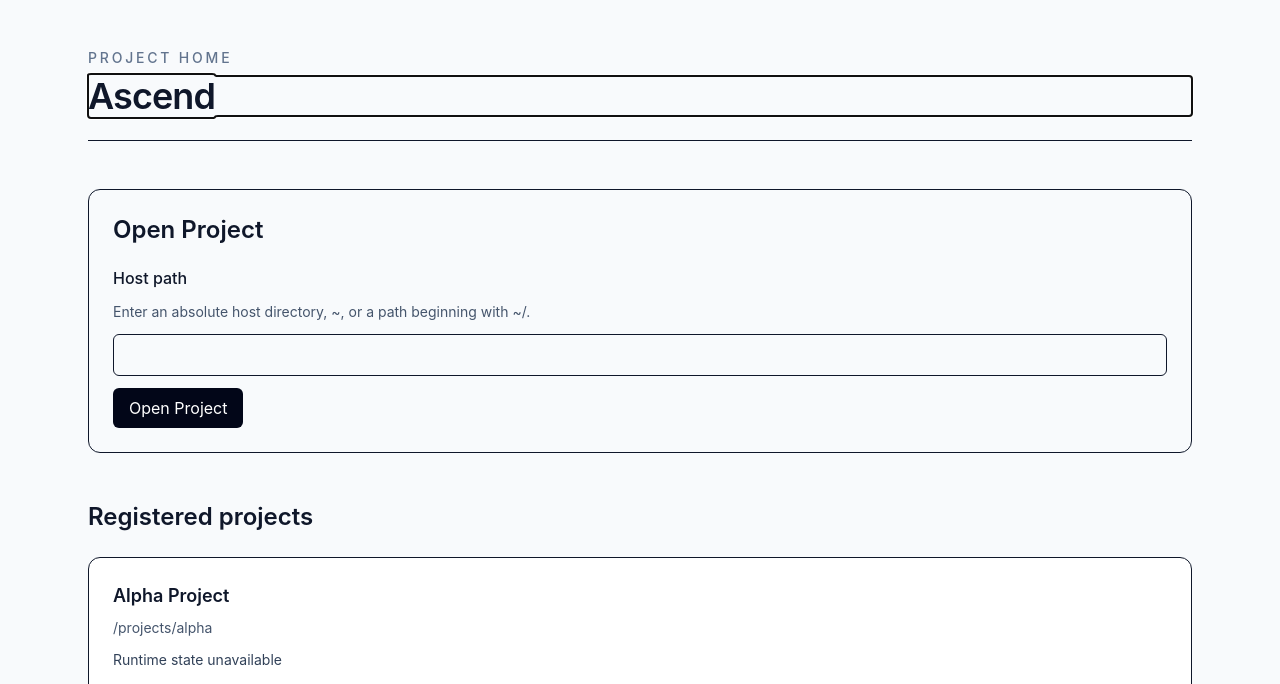
Test case: Project Home open interaction › renders typed unsupported_path_syntax as a preserved associated correction
The width and height of the screenshot is (1280, 684).
Type "/exact host path" into the field labelled "Host path" at (640, 355), box [113,334,1167,376]
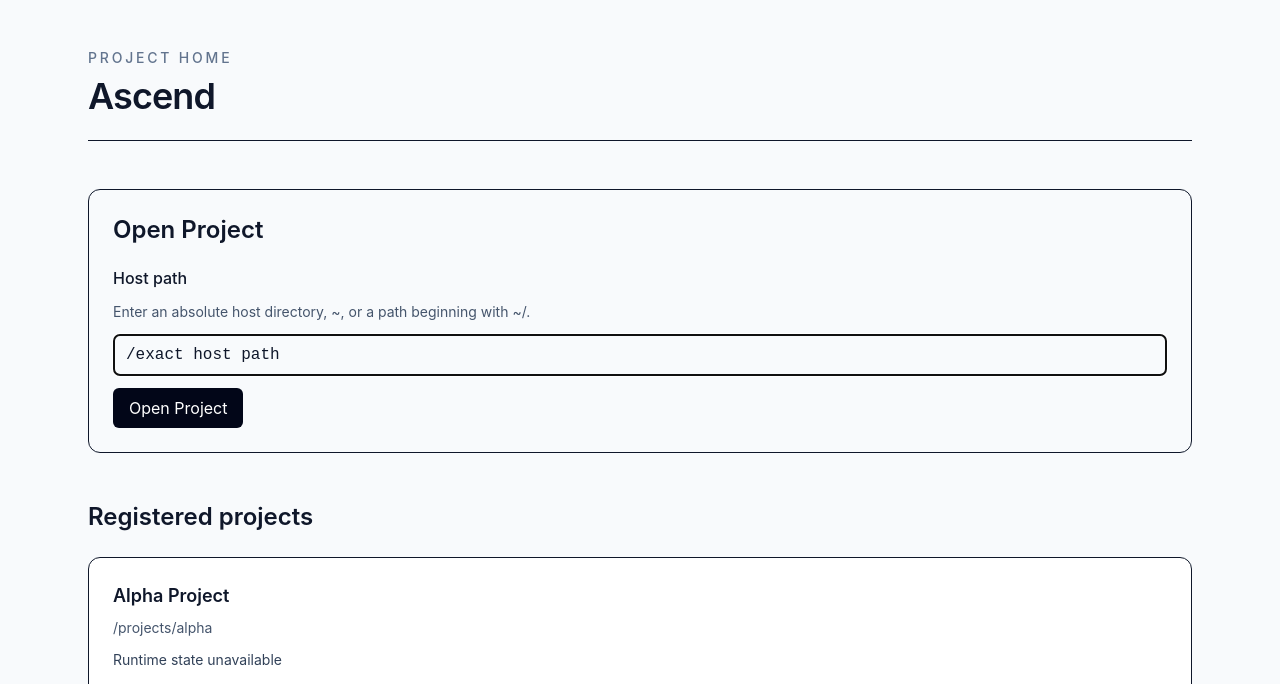
Click the button "Open Project" at (178, 408), box [113,388,244,428]
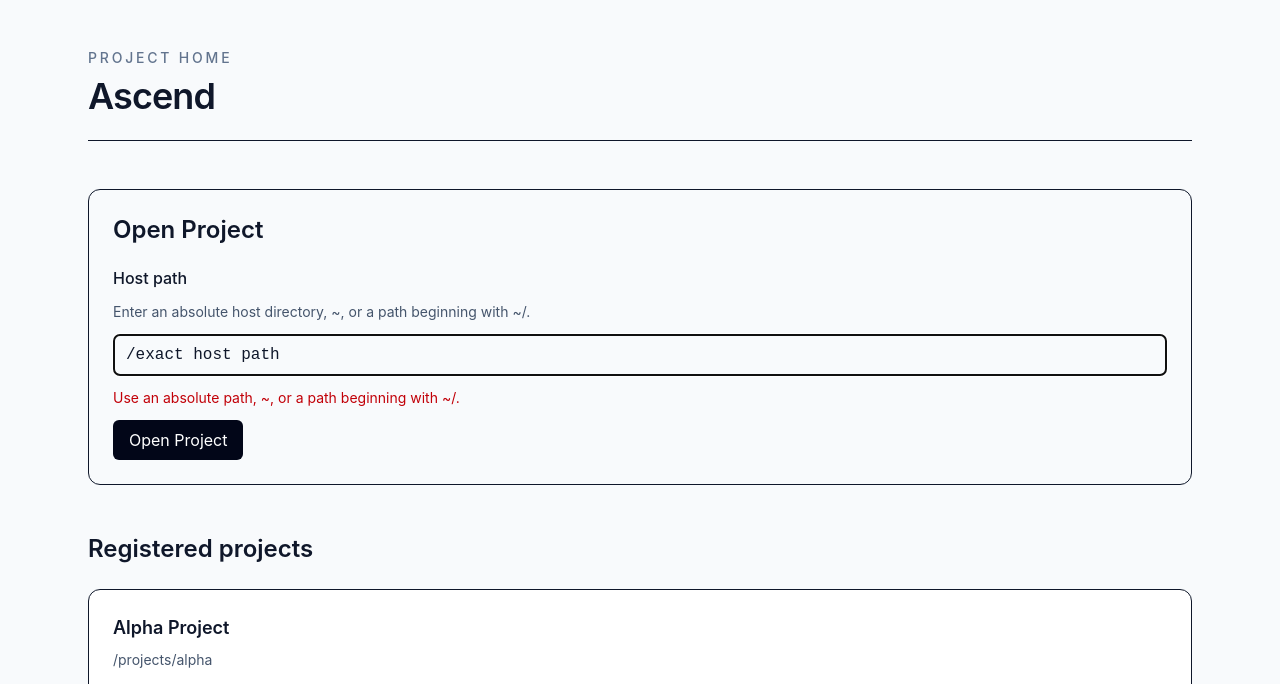
Expected: the message reads "Use an absolute path, ~, or a path beginning with ~/.", [113,389,460,406]
